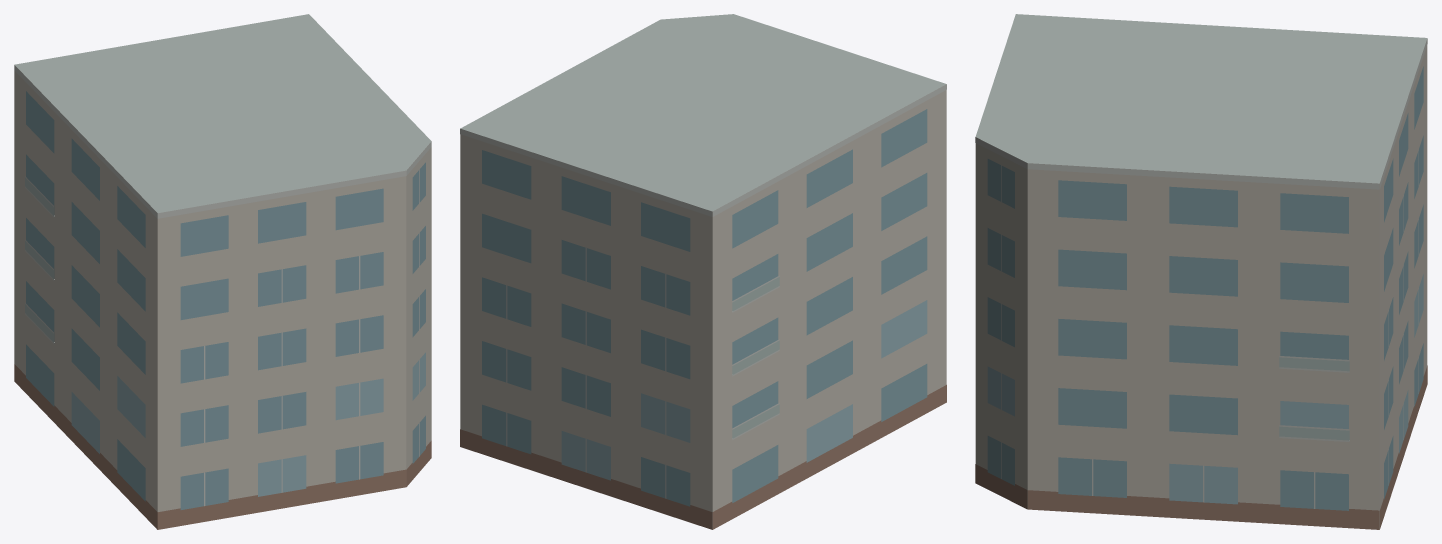
The model's file is survey-upis-32951088.glb.
3 renders of one model, left to right at view 1: azimuth 30°, elevation 25°; view 2: azimuth 150°, elevation 25°; view 3: azimuth 270°, elevation 25°, orthographic. The views are drawn at different scales.
Parts seen in each view (by area): view 1: survey-upis-32951088.tmp; view 2: survey-upis-32951088.tmp; view 3: survey-upis-32951088.tmp.
Boxes of the visible parts, <box> form: survey-upis-32951088.tmp: <box>14,14,431,529</box>; survey-upis-32951088.tmp: <box>460,14,946,529</box>; survey-upis-32951088.tmp: <box>975,14,1427,529</box>.
Bounding box in the file's own units: 14.6 × 13.9 × 16.45.
